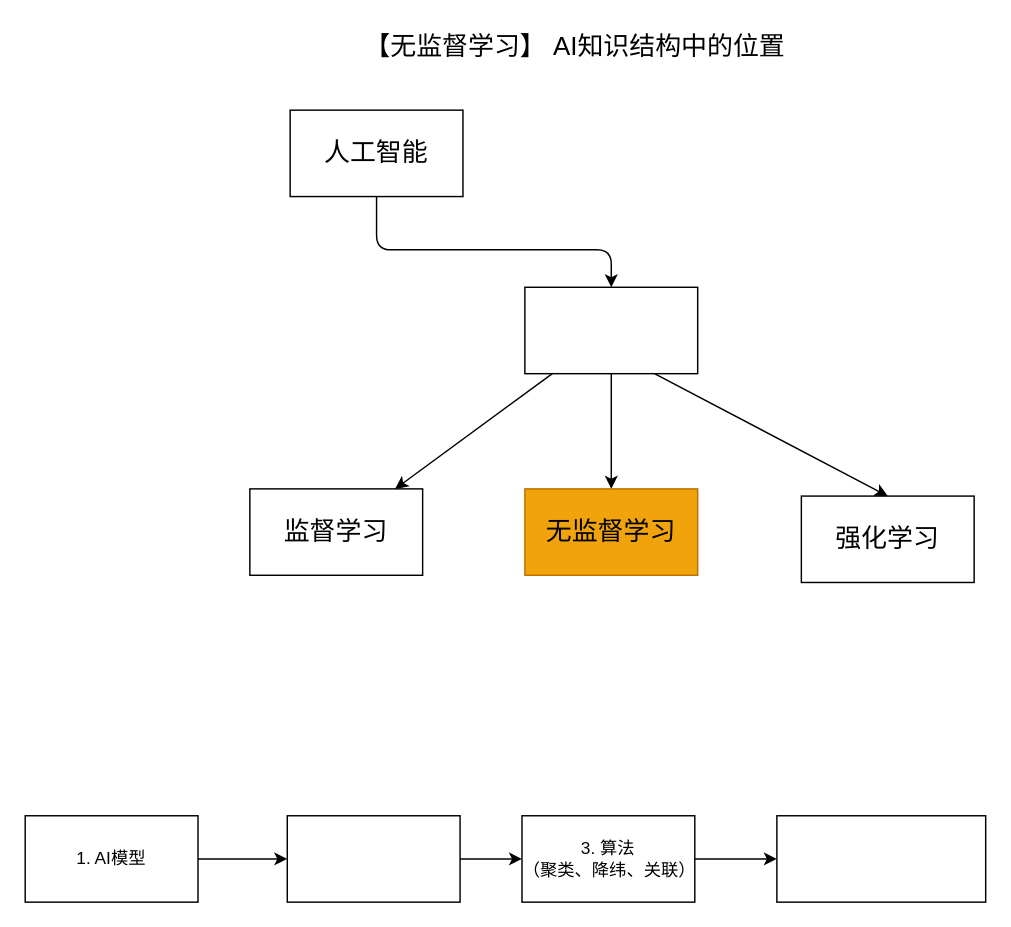
Image size: 1011x927. Some labels were removed from this diagram. The shapes that lost their labels are listed below. From the top down, each one's centre as x and y in pixels, then its label:
At pixel 610 330: "机器学习".
At pixel 373 858: "2. 无特征数据".
At pixel 880 858: "4. 得到数据分类或规律".
